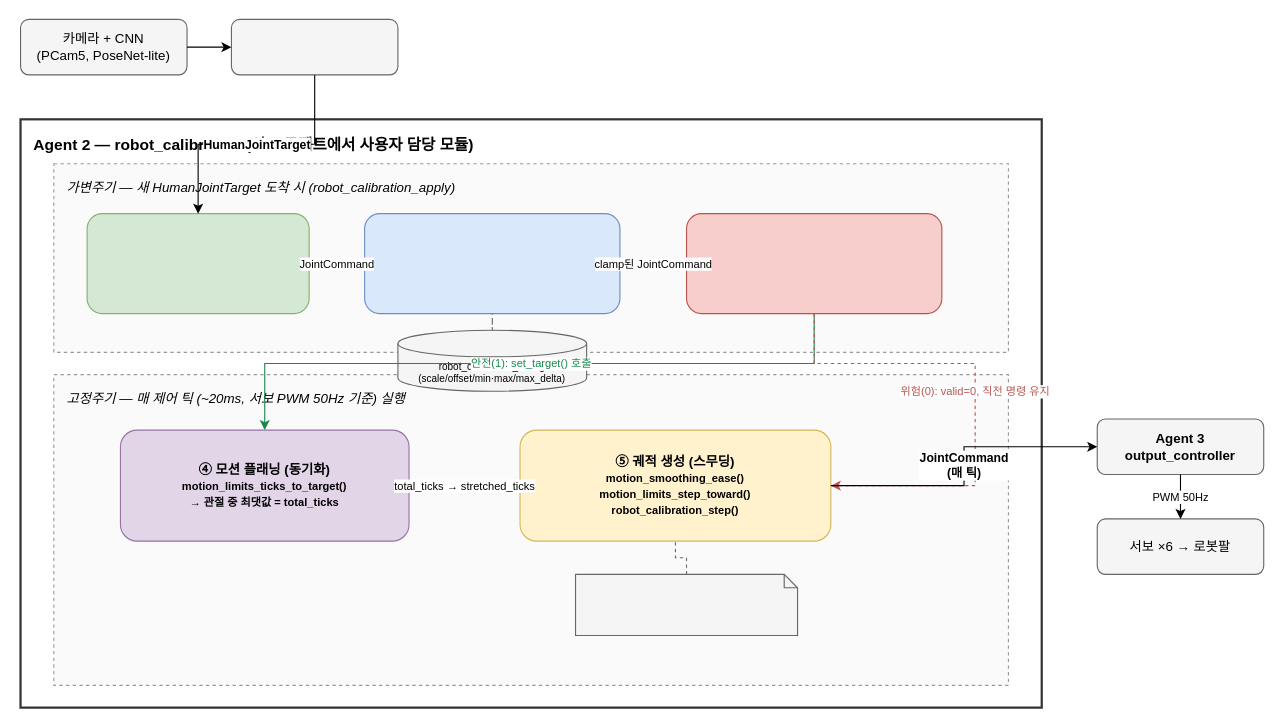
Some shapes in this 1283 by 728 pixel diagram are drawn without their labels. The centre of each missing label's shape, as x and y in pixels:
"Agent 1 human_target_angle" goes at (314,46).
"RobotMotionState (current / start / target / ticks_elapsed)" goes at (686,604).
"① 입력 검증 motion_control_validate_target()" goes at (197,263).
"② 좌표 보정/매핑 motion_control_map_target() motion_control_apply_limits()" goes at (492,263).
"③ 안전검사 robot_forward_kinematics_2d() safety_check_apply()" goes at (813,263).
